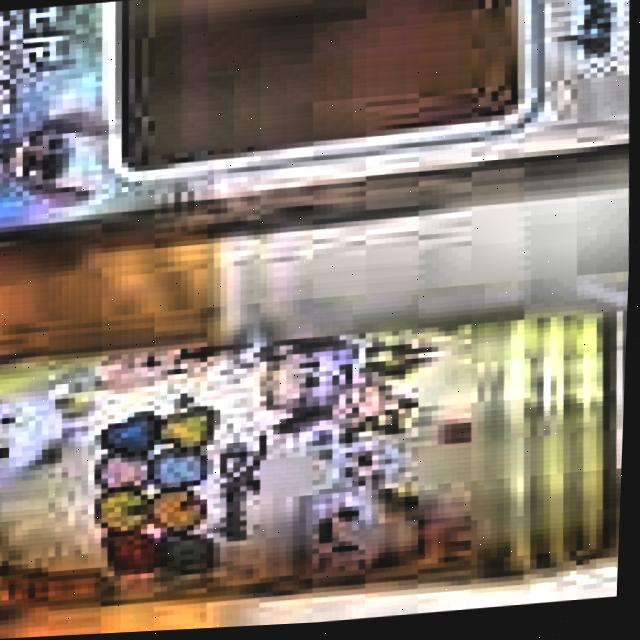metal: (0, 293, 631, 640)
